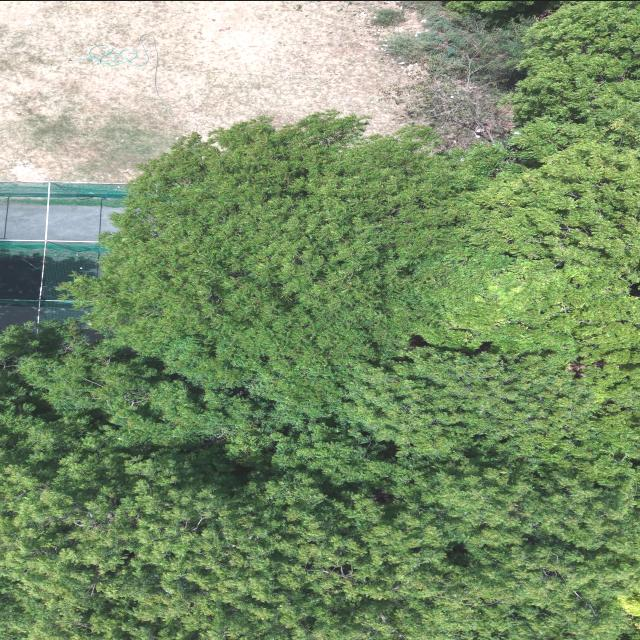DRY_AREA: (0, 1, 418, 181)
VEGETATION_TREE: (0, 1, 639, 639), (0, 326, 637, 639), (70, 114, 637, 459), (379, 1, 539, 149), (380, 1, 526, 84), (384, 74, 511, 150), (437, 1, 559, 23), (446, 1, 556, 17), (371, 8, 405, 26)
